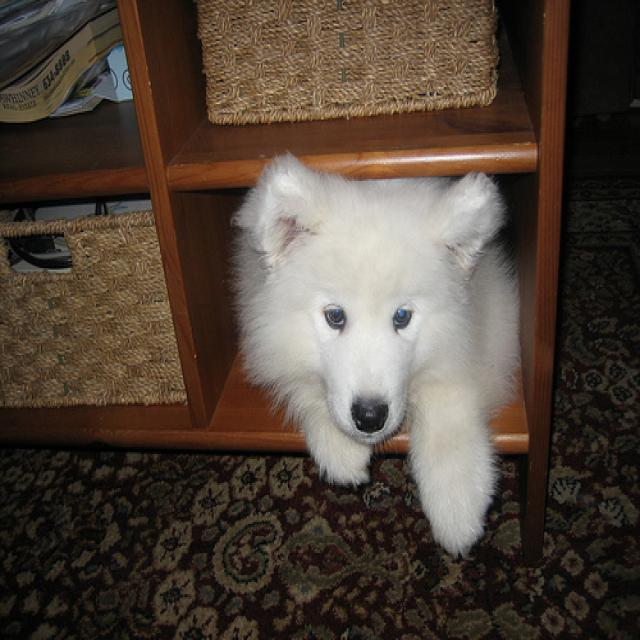dog-samoyed: (223, 140, 538, 568)
